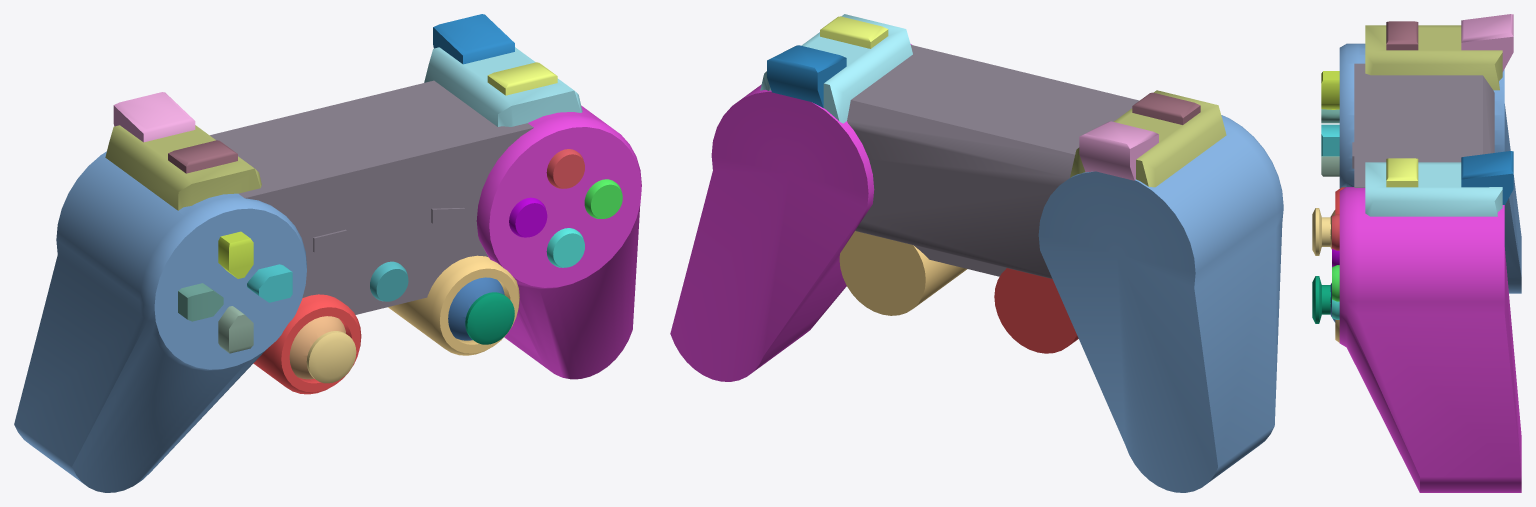
3 renders of one model, left to right at view 1: azimuth 30°, elevation 25°; view 2: azimuth 150°, elevation 25°; view 3: azimuth 270°, elevation 25°, orthographic. The views are drawn at different scales.
Visible parts, largest first — view 1: Object_6.001, Object_2, Object_6, Object_10, Object_10.001, Object_4, Object_4.001, Object_9.001, Object_9.003, Object_8.007, Object_8.006, Object_9.005 (+12 smaller); view 2: Object_6.001, Object_2, Object_6, Object_4, Object_4.001, Object_10, Object_10.001, Object_9.003, Object_9.001, Object_9.005, Object_9; view 3: Object_6, Object_2, Object_10.001, Object_10, Object_6.001, Object_9.001, Object_9.003, Object_9.005, Object_9, Object_7.009, Object_8.006, Object_8.007 (+5 smaller).
Boxes of the visible parts, x1,y1,x2,y2 form: Object_6.001: (14,151,306,492); Object_2: (210,80,533,314); Object_6: (476,105,641,379); Object_10: (105,125,261,210); Object_10.001: (424,47,582,126); Object_4: (388,255,519,355); Object_4.001: (253,294,361,394); Object_9.001: (113,92,195,142); Object_9.003: (433,14,514,64); Object_8.007: (465,292,514,344); Object_8.006: (306,331,356,383); Object_9.005: (487,62,557,95); Object_6.001: (1038,115,1283,492); Object_2: (847,45,1139,278); Object_6: (670,44,911,381); Object_4: (839,231,967,315); Object_4.001: (994,268,1078,353); Object_10: (1070,90,1226,187); Object_10.001: (760,14,912,123); Object_9.003: (767,45,846,107); Object_9.001: (1079,121,1158,180); Object_9.005: (820,16,888,48); Object_9: (1132,92,1200,124); Object_6: (1339,187,1521,492); Object_2: (1352,63,1494,187); Object_10.001: (1365,162,1502,216); Object_10: (1365,25,1502,90); Object_6.001: (1339,43,1521,293); Object_9.001: (1461,14,1513,71); Object_9.003: (1461,151,1513,204); Object_9.005: (1386,158,1418,187); Object_9: (1386,21,1418,50); Object_7.009: (1321,71,1339,109); Object_8.006: (1312,208,1330,255); Object_8.007: (1312,276,1330,323).
Bounding box in the file's own units: 1 × 0.5769 × 0.3681.
